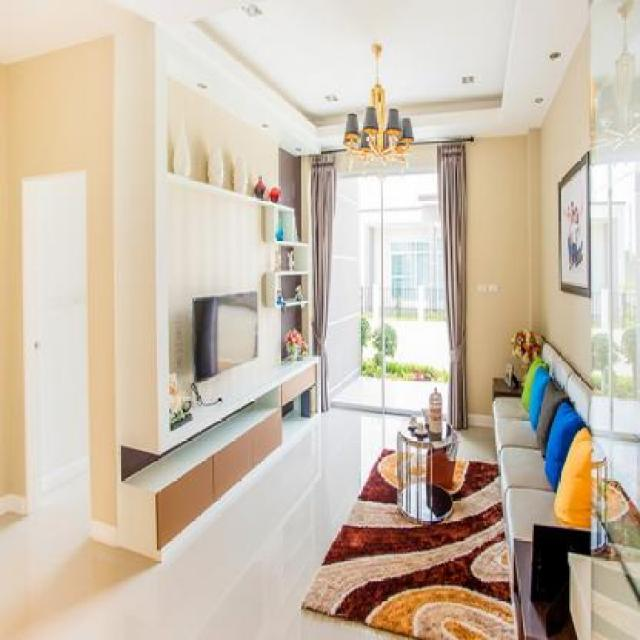Floor: (0, 406, 410, 639), (454, 425, 497, 461), (421, 449, 428, 453), (410, 447, 416, 451), (403, 442, 405, 450)
